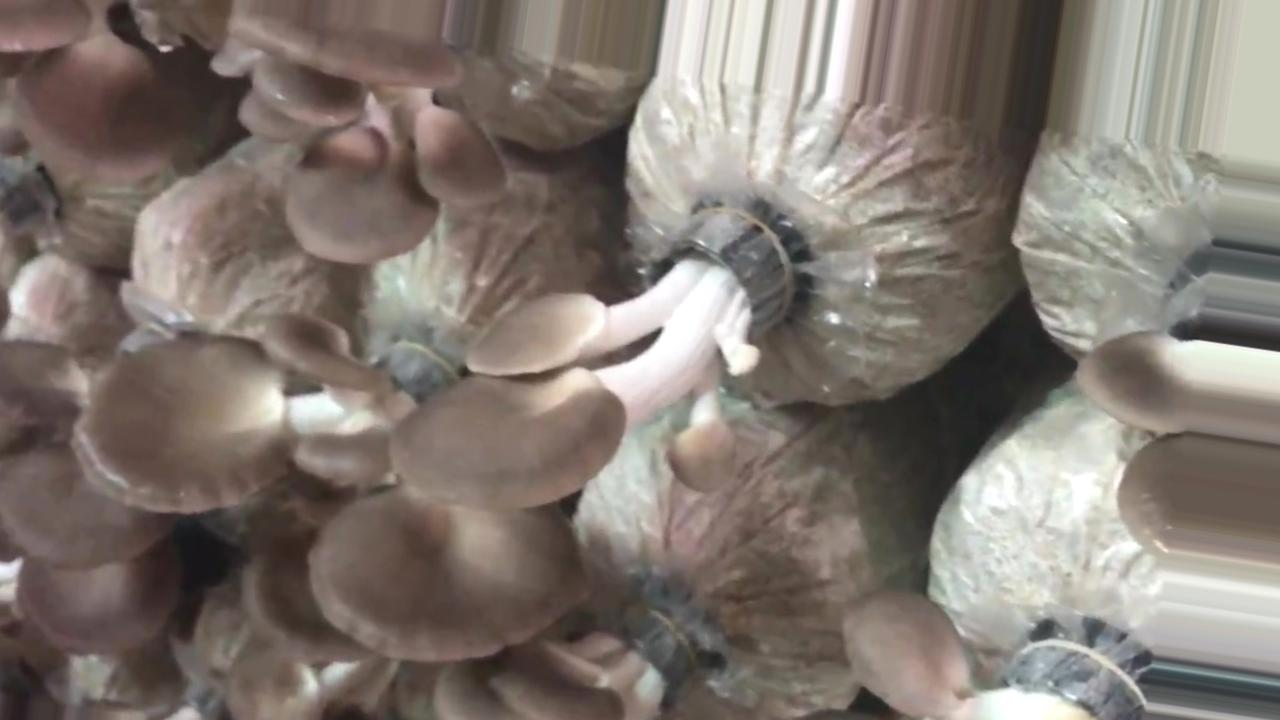nam: (305, 203, 810, 670), (71, 305, 595, 666), (234, 16, 509, 266)
